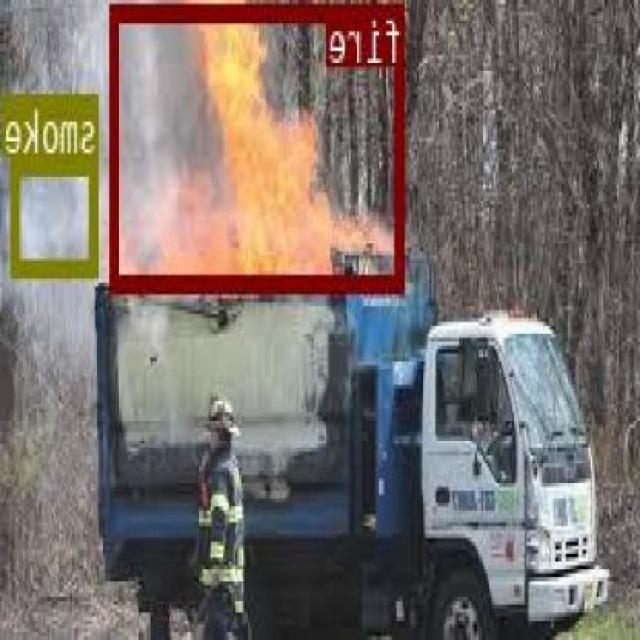Fire: (112, 3, 406, 288)
Smoke: (13, 156, 101, 273)
